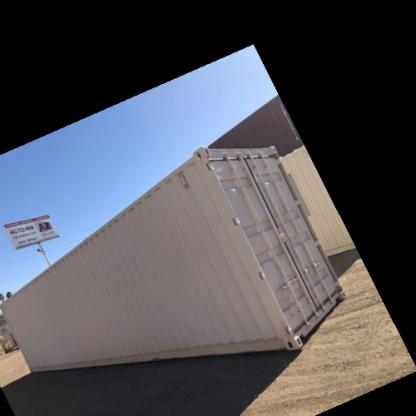Damage: (277, 314, 295, 337)
